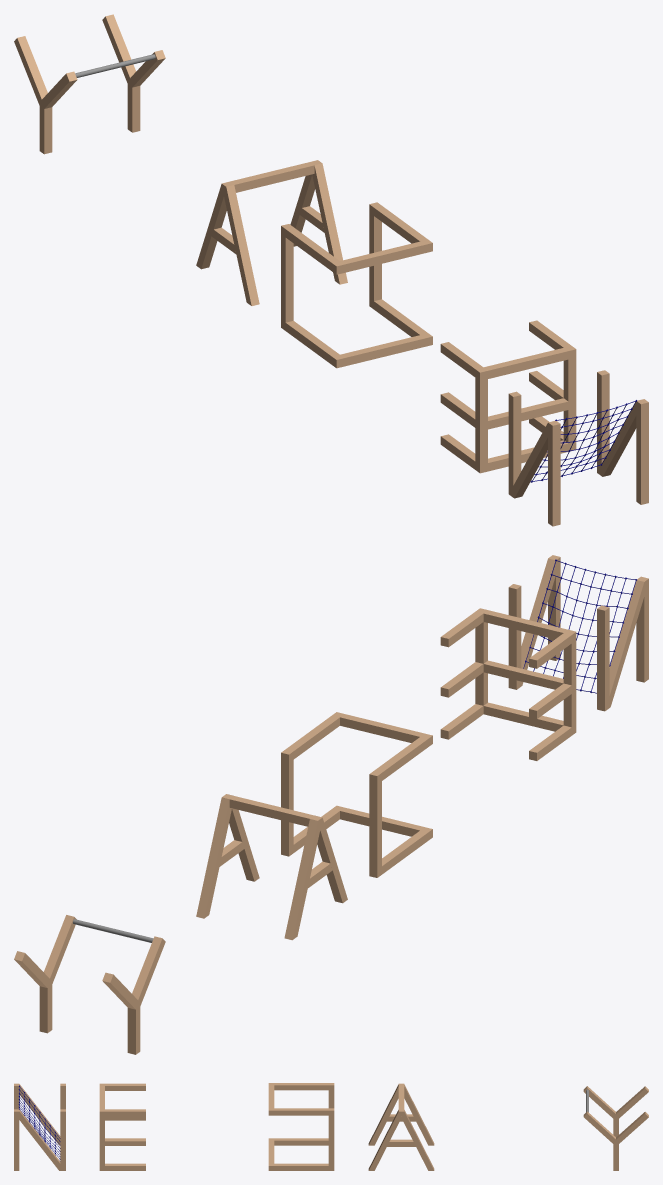
The model's file is THANKYOU.obj.
3 views of the same model, one above another, from view 1: azimuth 30°, elevation 25°; view 2: azimuth 150°, elevation 25°; view 3: azimuth 270°, elevation 25° (orthographic). The views are drawn at different scales.
Parts seen in each view (by area): view 1: THANKYOU, Plane001; view 2: THANKYOU, Plane001; view 3: THANKYOU, Plane001.
Boxes of the visible parts, x1=… form: THANKYOU: x1=14, y1=14, x2=648, y2=526; Plane001: x1=530, y1=400, x2=637, y2=482; THANKYOU: x1=14, y1=555, x2=648, y2=1054; Plane001: x1=523, y1=559, x2=636, y2=693; THANKYOU: x1=14, y1=1083, x2=648, y2=1170; Plane001: x1=18, y1=1085, x2=60, y2=1159.
Bounding box in the file's own units: 24 × 24.3 × 233.
